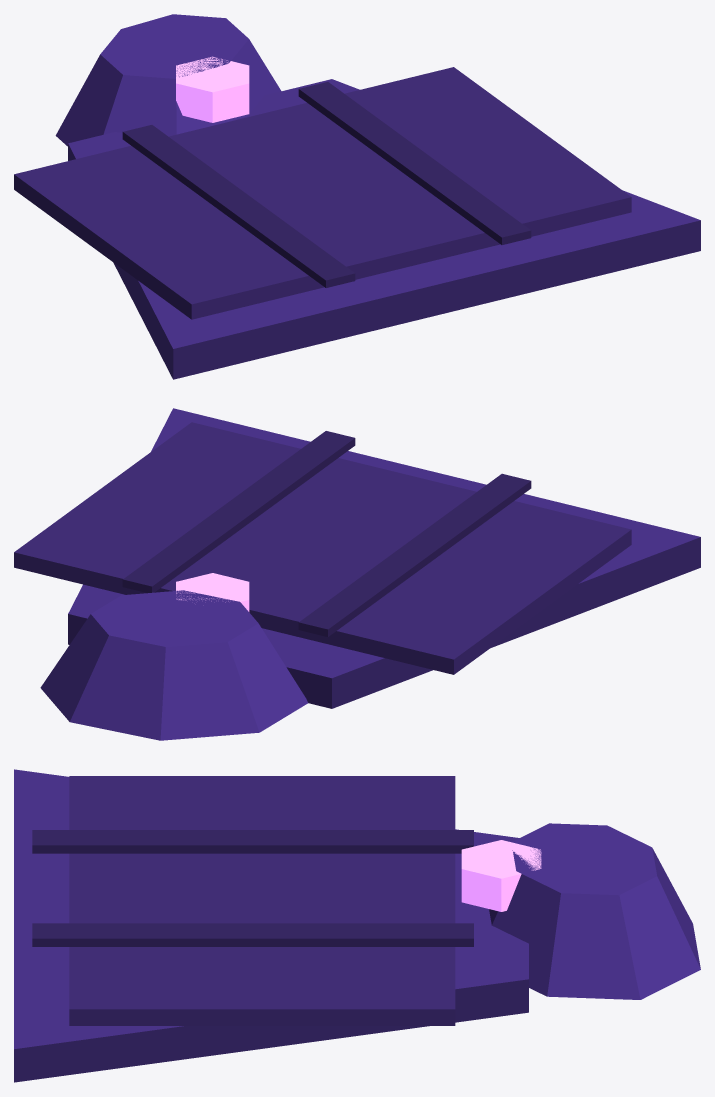
The model's file is shadow_cloak.glb.
3 renders of one model, top to bottom at view 1: azimuth 30°, elevation 25°; view 2: azimuth 150°, elevation 25°; view 3: azimuth 270°, elevation 25°, orthographic. The views are drawn at different scales.
Visible parts, largest first — view 1: shadow_cloak; view 2: shadow_cloak; view 3: shadow_cloak.
Boxes of the visible parts, left/top/right/bottom form: shadow_cloak: left=14, top=14, right=700, bottom=379; shadow_cloak: left=14, top=408, right=700, bottom=740; shadow_cloak: left=14, top=769, right=700, bottom=1082.
Bounding box in the file's own units: 0.9 × 0.125 × 0.9336.
